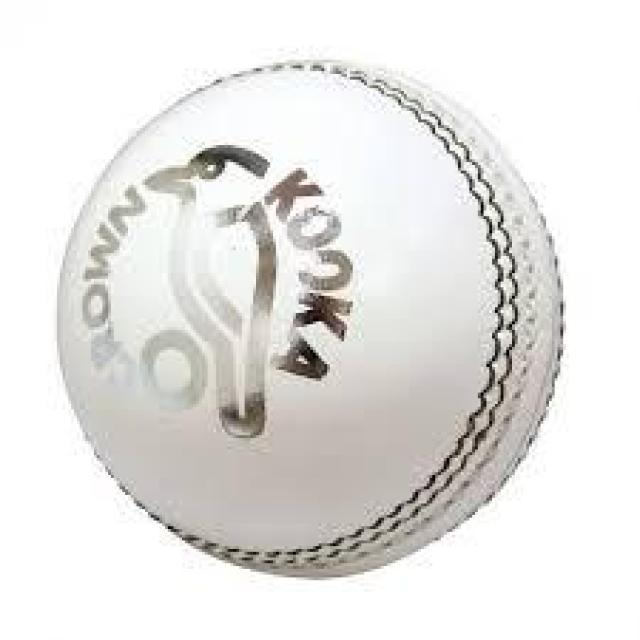ball: (54, 54, 569, 580)
